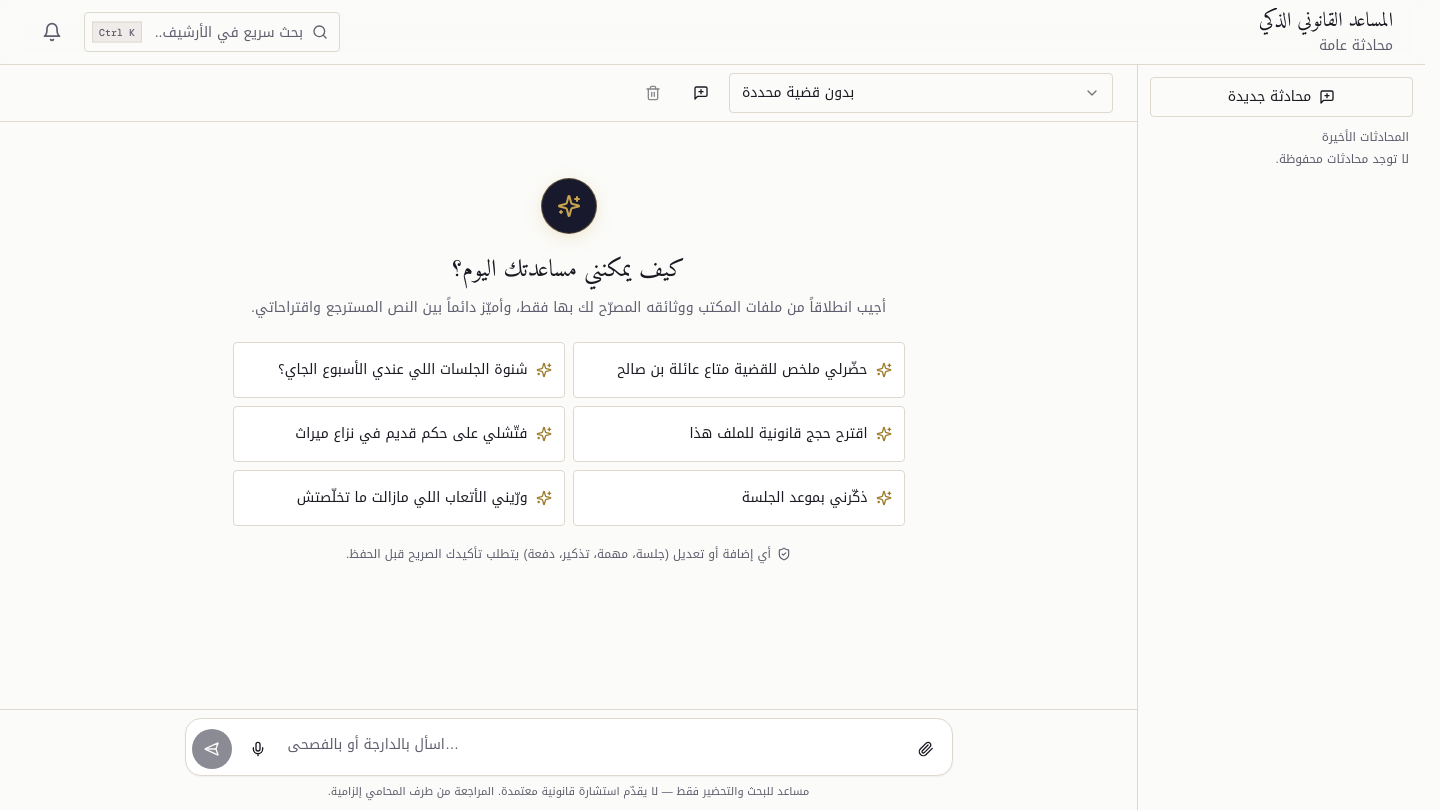
assistant conversation › shows an error with retry when the provider fails, without claiming any action
In the text box named "اكتب رسالتك للمساعد": [592, 747] box [284,725,900,769], type "شنوة الجلسات اللي عندي الأسبوع الجاي؟"
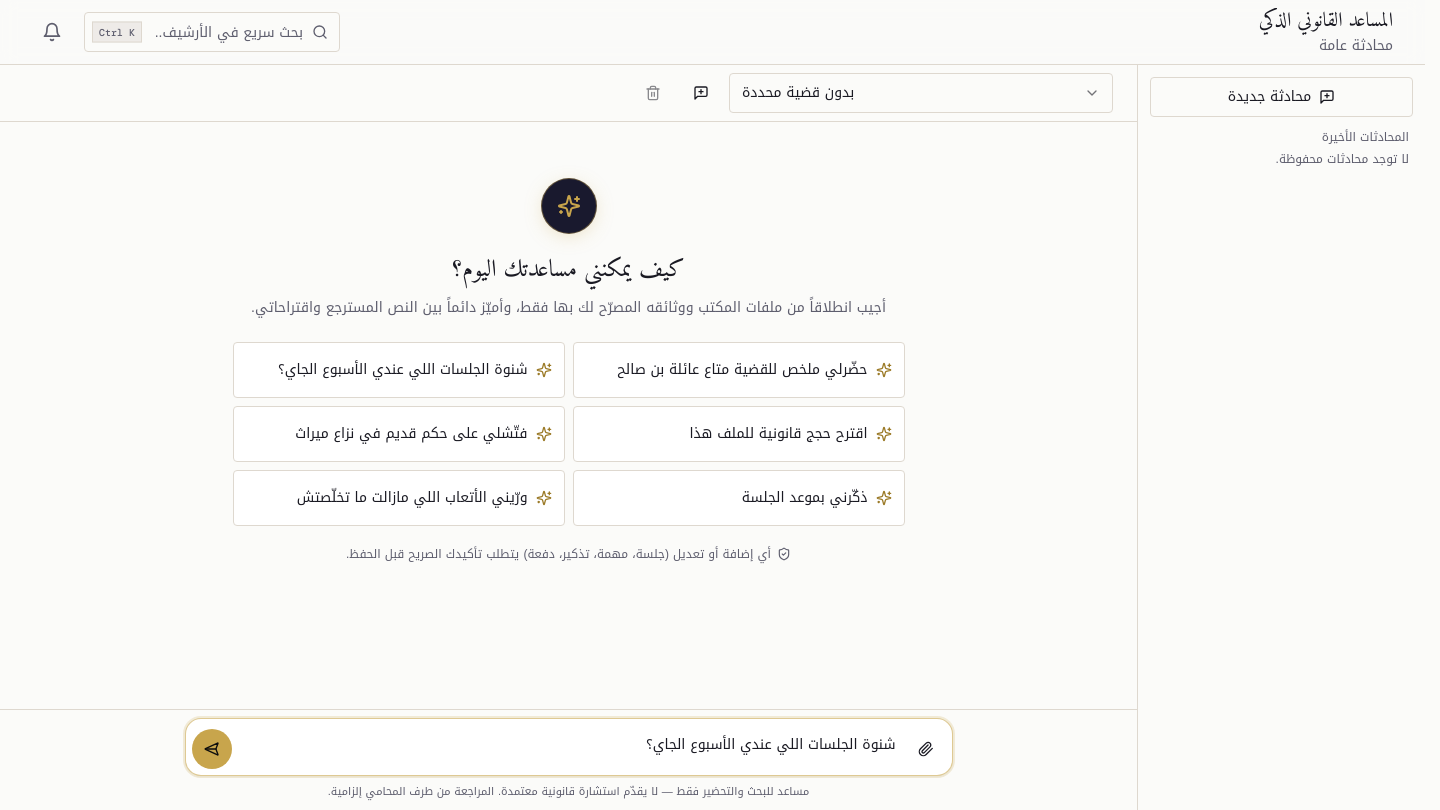
Click the button named "إرسال": [212, 749] box [192,729,232,769]
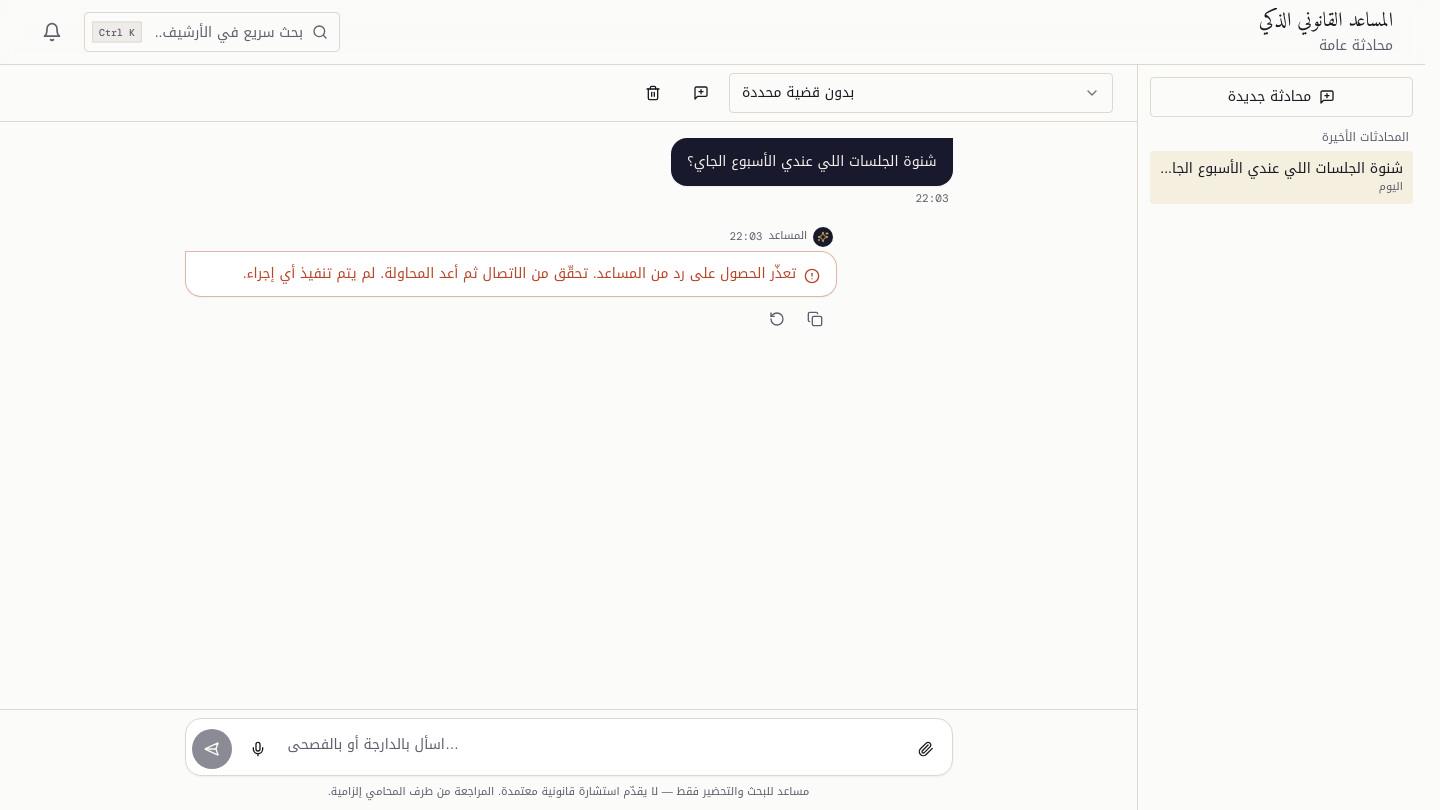
Now the text "تعذّر الحصول على رد من المساعد" is shown, box [243,260,796,286]
Now the button named "إعادة توليد الرد" is shown, box [759,300,795,336]
